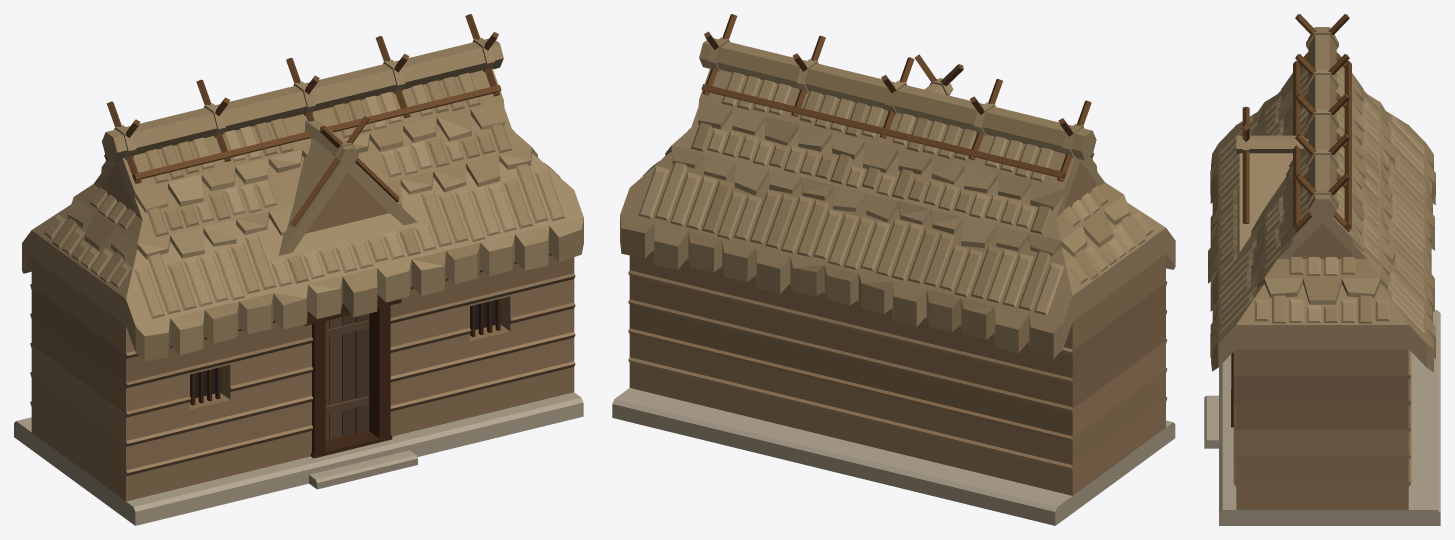
The model's file is rammed-earth-farmhouse-6432fc.glb.
3 renders of one model, left to right at view 1: azimuth 30°, elevation 25°; view 2: azimuth 150°, elevation 25°; view 3: azimuth 270°, elevation 25°, orthographic. The views are drawn at different scales.
Visible parts, largest first — view 1: farmhouse-body, door-leaf-boards; view 2: farmhouse-body; view 3: farmhouse-body.
Boxes of the visible parts, <box> form: farmhouse-body: <box>14,14,583,525</box>; door-leaf-boards: <box>325,313,369,441</box>; farmhouse-body: <box>612,14,1175,525</box>; farmhouse-body: <box>1204,14,1440,525</box>.
Bounding box in the file's own units: 8 × 6.2 × 4.
